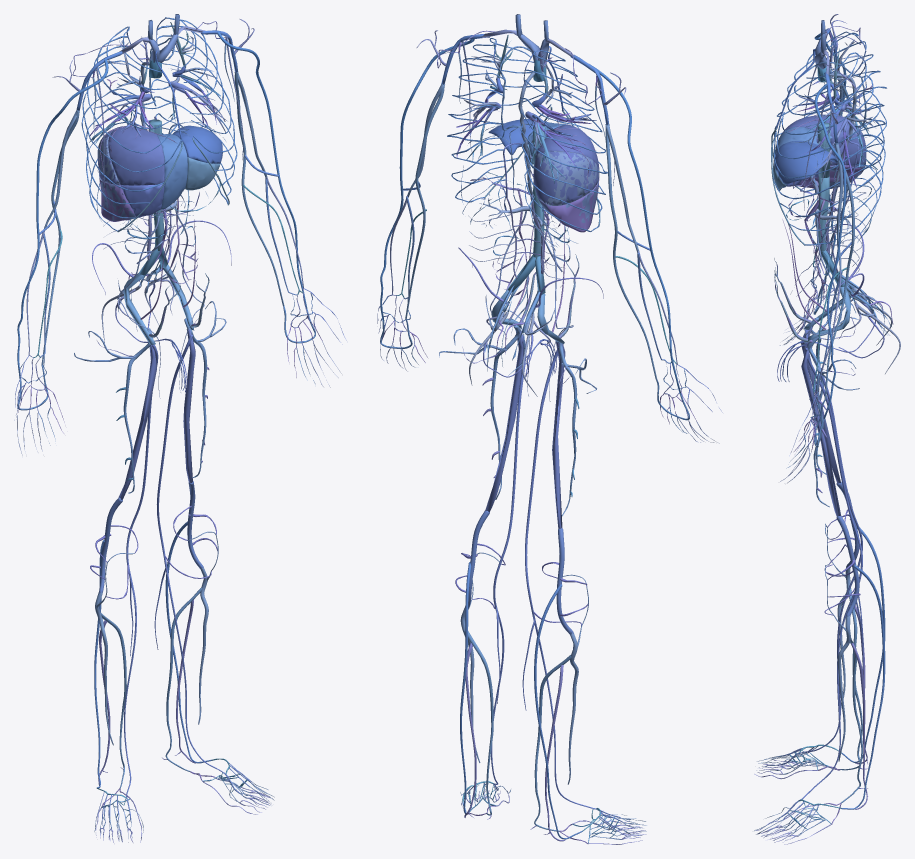
File: body-veins.lod2.glb
The picture shows the model from 3 angles, left to right: view 1: azimuth 30°, elevation 25°; view 2: azimuth 150°, elevation 25°; view 3: azimuth 270°, elevation 25°; orthographic projection. The views are drawn at different scales.
Visible parts, largest first — view 1: set-of-anterior-intercostal-veins, hepatovenous-segment-viii, hepatovenous-segment-iv, great-saphenous-vein-l, hepatovenous-segment-ii, great-saphenous-vein-r, cephalic-vein-r, hepatovenous-segment-v, femoral-vein-r, femoral-vein-l, cephalic-vein-l, hepatovenous-segment-iii (+6 smaller); view 2: set-of-anterior-intercostal-veins, hepatovenous-segment-viii, hepatovenous-segment-ix, great-saphenous-vein-r, great-saphenous-vein-l, femoral-vein-l, femoral-vein-r, cephalic-vein-r, hepatovenous-segment-vii, cephalic-vein-l, basilic-vein-r, small-saphenous-vein-r (+4 smaller); view 3: set-of-anterior-intercostal-veins, hepatovenous-segment-ii, great-saphenous-vein-l, hepatovenous-segment-viii, femoral-vein-l, cephalic-vein-l, great-saphenous-vein-r, inferior-vena-cava, small-saphenous-vein-l, basilic-vein-l, set-of-plantar-digital-veins, anterior-tibial-vein-l (+17 smaller).
Part boxes in pixels (x1,y1,x2,y2): set-of-anterior-intercostal-veins: (81,17,237,231); hepatovenous-segment-viii: (97,126,164,185); hepatovenous-segment-iv: (157,133,187,209); great-saphenous-vein-l: (154,334,222,771); hepatovenous-segment-ii: (172,125,222,163); great-saphenous-vein-r: (124,344,158,795); cephalic-vein-r: (17,59,108,378); hepatovenous-segment-v: (120,184,164,217); femoral-vein-r: (118,345,156,499); femoral-vein-l: (183,329,195,482); cephalic-vein-l: (217,31,307,308); hepatovenous-segment-iii: (185,157,220,190); set-of-anterior-intercostal-veins: (447,38,607,243); hepatovenous-segment-viii: (533,124,599,204); hepatovenous-segment-ix: (536,151,599,205); great-saphenous-vein-r: (522,350,593,808); great-saphenous-vein-l: (491,334,526,784); femoral-vein-l: (485,329,523,512); femoral-vein-r: (552,341,565,528); cephalic-vein-r: (589,64,680,393); hepatovenous-segment-vii: (541,178,599,232); cephalic-vein-l: (380,35,474,321); basilic-vein-r: (605,124,657,380); small-saphenous-vein-r: (534,584,582,839); set-of-anterior-intercostal-veins: (772,31,886,245); hepatovenous-segment-ii: (774,141,837,184); great-saphenous-vein-l: (802,348,863,799); hepatovenous-segment-viii: (781,114,866,165); femoral-vein-l: (801,343,841,516); cephalic-vein-l: (814,83,846,418); great-saphenous-vein-r: (802,330,863,752); inferior-vena-cava: (816,122,830,253); small-saphenous-vein-l: (841,565,885,809); basilic-vein-l: (824,143,854,400); set-of-plantar-digital-veins: (754,760,831,844); anterior-tibial-vein-l: (825,564,850,761).
Size of the model in its own units: 0.648 by 1.46 by 0.2535.
